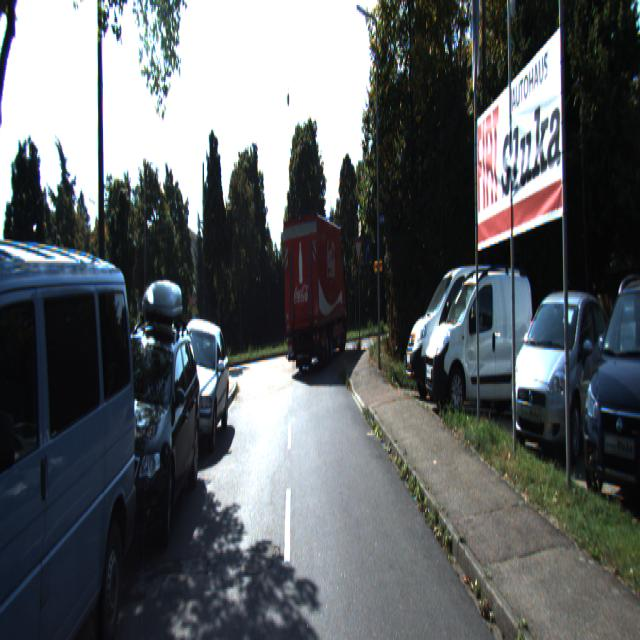Car: (0, 210, 142, 638), (77, 318, 204, 590), (554, 403, 640, 638), (508, 294, 615, 471), (404, 258, 532, 401), (423, 267, 536, 422), (582, 282, 639, 518), (280, 213, 348, 379), (168, 314, 234, 463)
